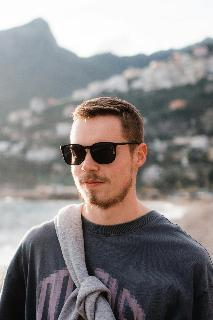person - v3 P: (0, 98, 212, 319)
